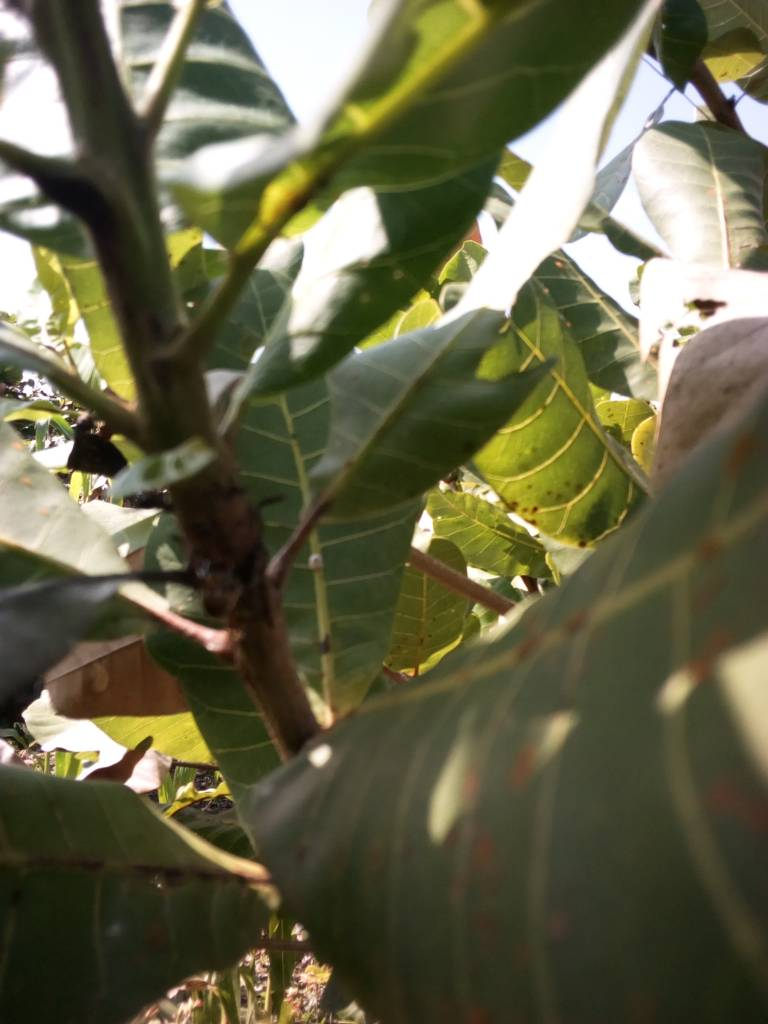Rouille: (69, 308, 768, 958)
